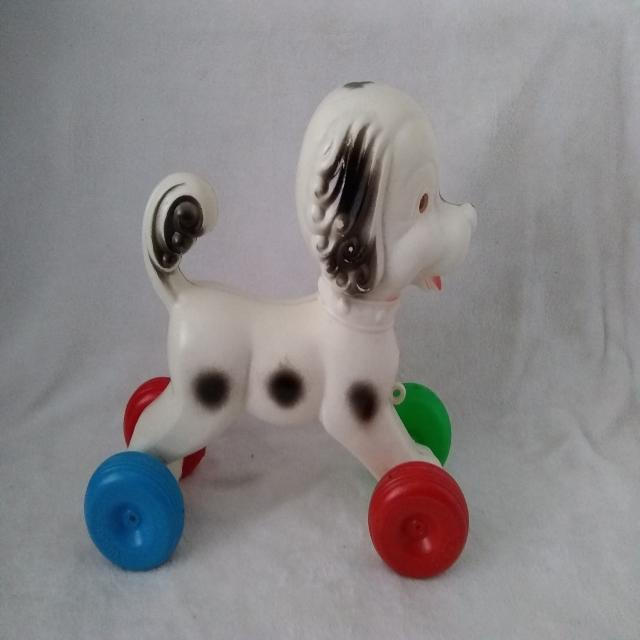hard-toy: (86, 84, 476, 578)
